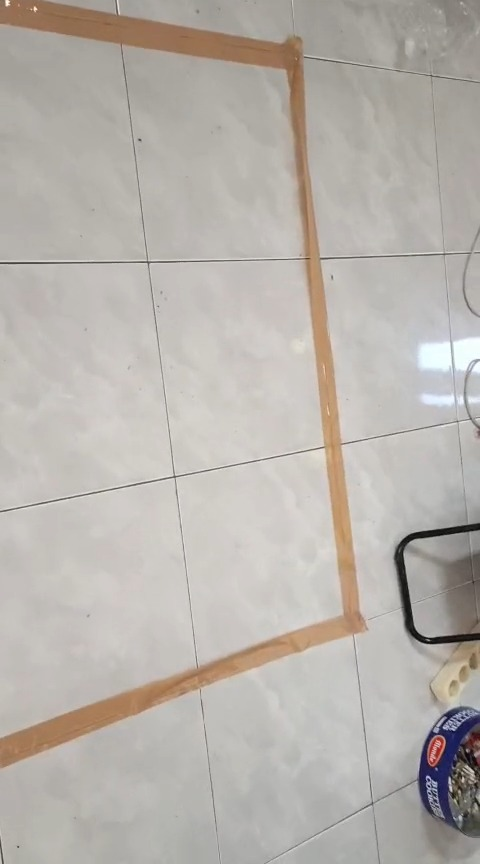floor marking: (0, 0, 365, 767)
